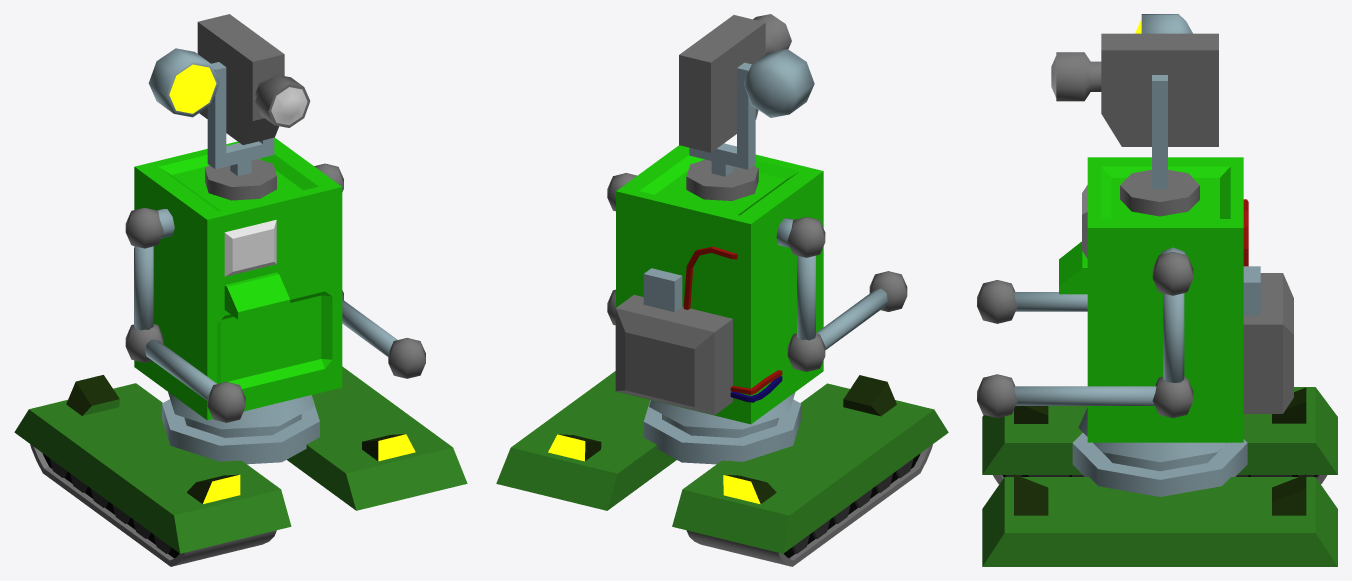
Rendered from player_concept03 6.fbx.
3 renders of one model, left to right at view 1: azimuth 30°, elevation 25°; view 2: azimuth 150°, elevation 25°; view 3: azimuth 270°, elevation 25°, orthographic. The views are drawn at different scales.
Parts seen in each view (by area): view 1: Torso, Track Cover, Turret, Camera_Body, Tracks, Lamp, Neck, Camera_Lens, Horizontal_Rotator, R_Upper_Arm, R_Lower_Arm, R_Joint_Wrist (+4 smaller); view 2: Track Cover, Torso, Bomb, Camera_Body, Turret, Tracks, Lamp, Neck, Horizontal_Rotator, R_Upper_Arm, R_Lower_Arm, R_Joint_Shoulder (+4 smaller); view 3: Track Cover, Torso, Camera_Body, Turret, Bomb, Horizontal_Rotator, L_Lower_Arm, Camera_Lens, L_Upper_Arm, Neck, L_Joint_Shoulder, L_Joint_Wrist (+4 smaller).
Boxes of the visible parts, x1,y1,x2,y2 form: Torso: [134, 137, 342, 420]; Track Cover: [14, 366, 467, 553]; Turret: [162, 392, 319, 464]; Camera_Body: [197, 14, 284, 144]; Tracks: [30, 444, 276, 566]; Lamp: [148, 48, 219, 117]; Neck: [207, 62, 274, 175]; Camera_Lens: [255, 74, 310, 127]; Horizontal_Rotator: [205, 159, 276, 200]; R_Upper_Arm: [134, 246, 153, 330]; R_Lower_Arm: [145, 339, 216, 400]; R_Joint_Wrist: [207, 382, 245, 422]; Track Cover: [496, 371, 948, 553]; Torso: [616, 145, 823, 424]; Bomb: [615, 268, 732, 415]; Camera_Body: [679, 15, 765, 152]; Turret: [643, 392, 801, 464]; Tracks: [686, 444, 932, 566]; Lamp: [743, 49, 814, 117]; Neck: [689, 62, 755, 176]; Horizontal_Rotator: [686, 159, 758, 200]; R_Upper_Arm: [797, 255, 815, 340]; R_Lower_Arm: [816, 288, 887, 349]; R_Joint_Shoulder: [787, 217, 825, 257]; Track Cover: [982, 387, 1337, 566]; Torso: [1059, 157, 1243, 442]; Camera_Body: [1101, 33, 1218, 146]; Turret: [1072, 407, 1247, 496]; Bomb: [1243, 266, 1293, 413]; Horizontal_Rotator: [1120, 169, 1199, 216]; L_Lower_Arm: [1014, 386, 1156, 405]; Camera_Lens: [1051, 52, 1101, 101]; L_Upper_Arm: [1163, 293, 1184, 382]; Neck: [1152, 75, 1167, 188]; L_Joint_Shoulder: [1152, 252, 1193, 295]; L_Joint_Wrist: [977, 374, 1017, 418].
Size of the model in its own units: 213 by 216 by 318.
